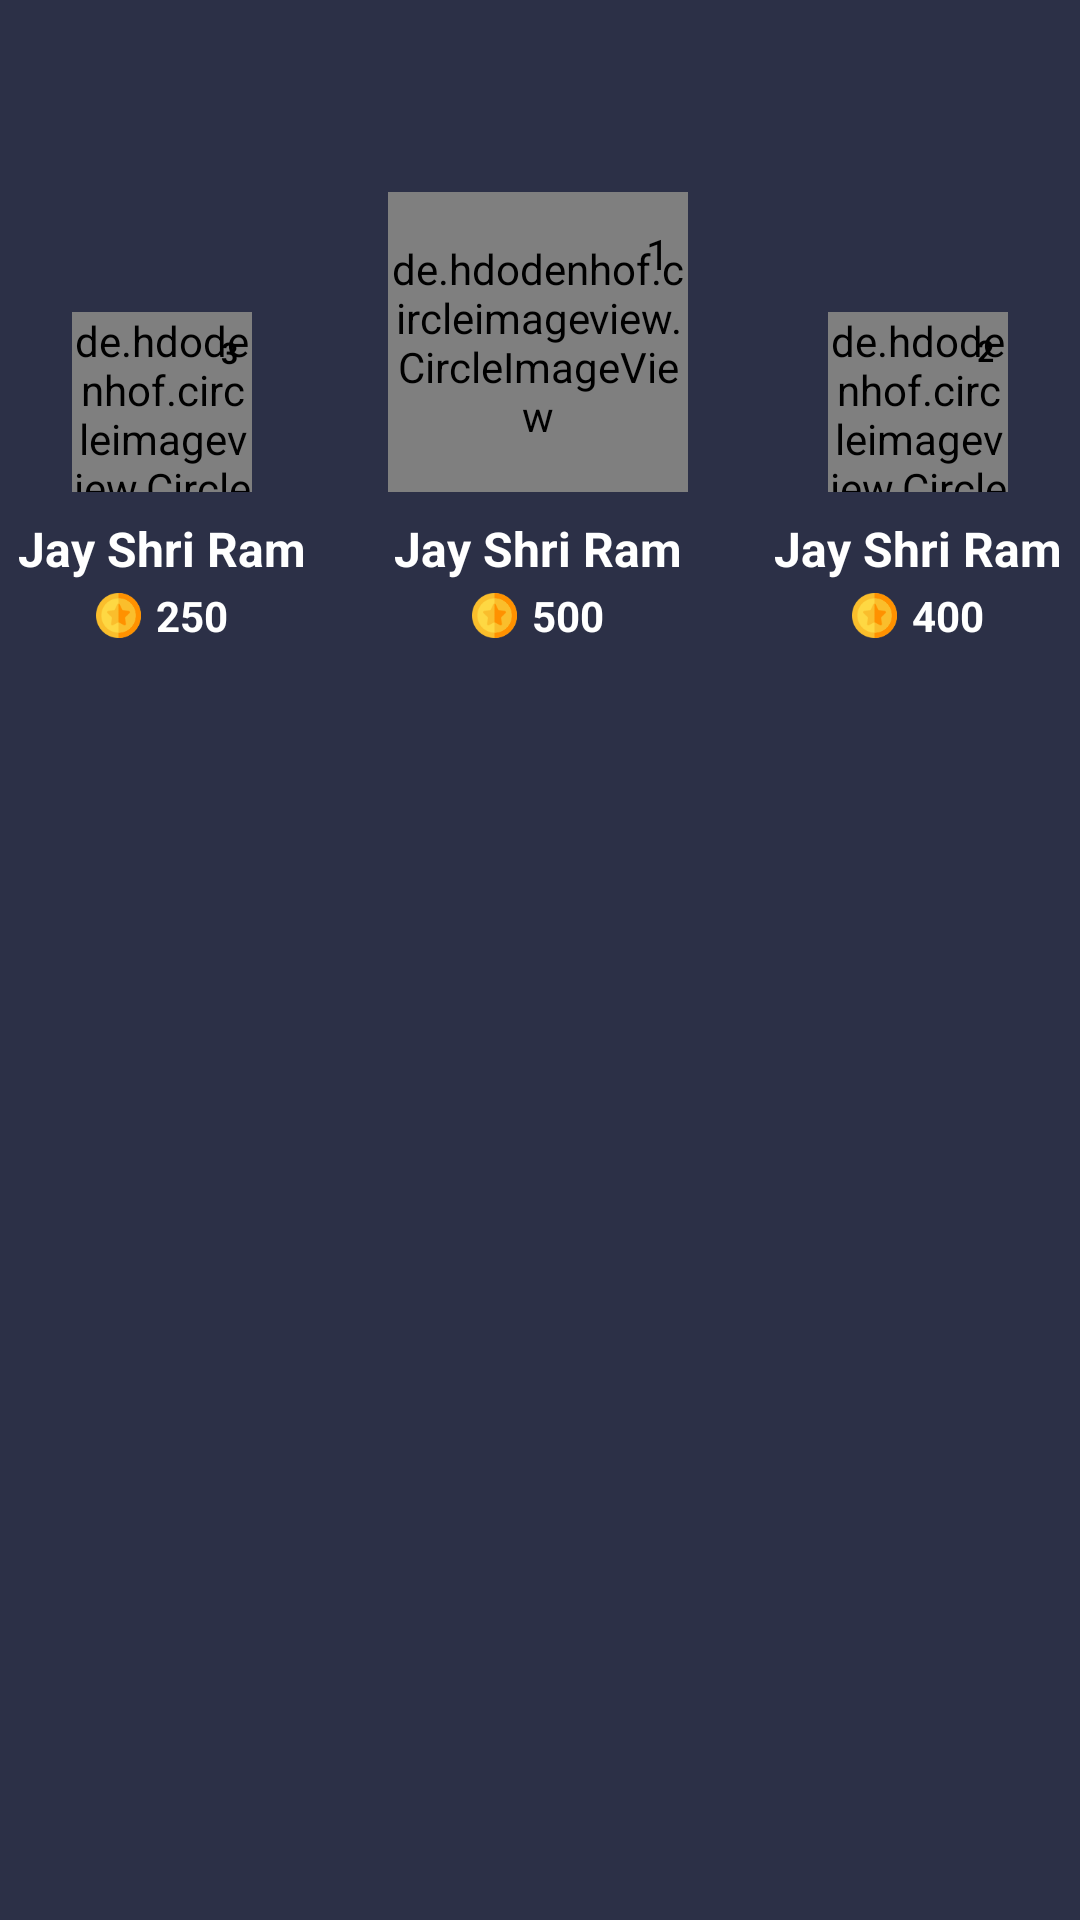

Icon click points for this 1080 x 1920 phone screenshot, format point (x, y):
coin: point (118, 615), point (494, 615), point (874, 615)
